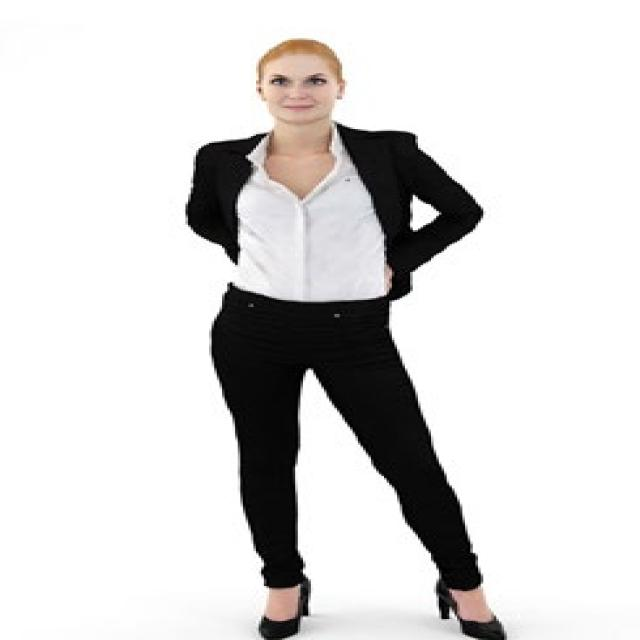standing: (182, 32, 511, 640)
